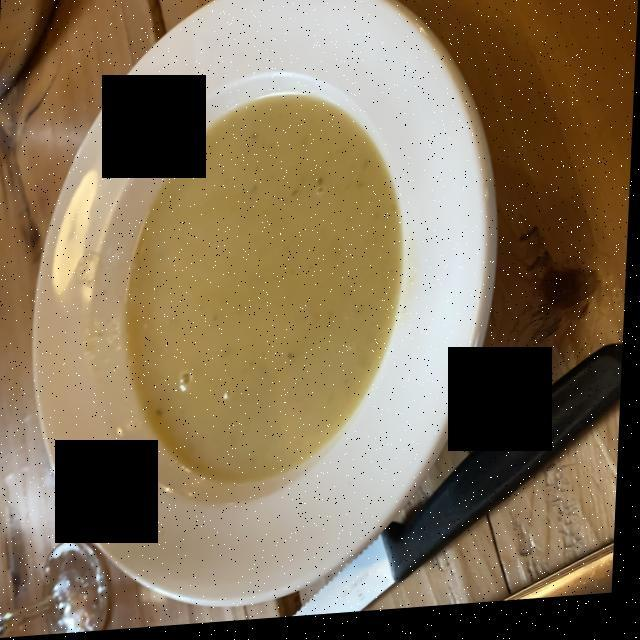soup: (129, 105, 400, 489)
